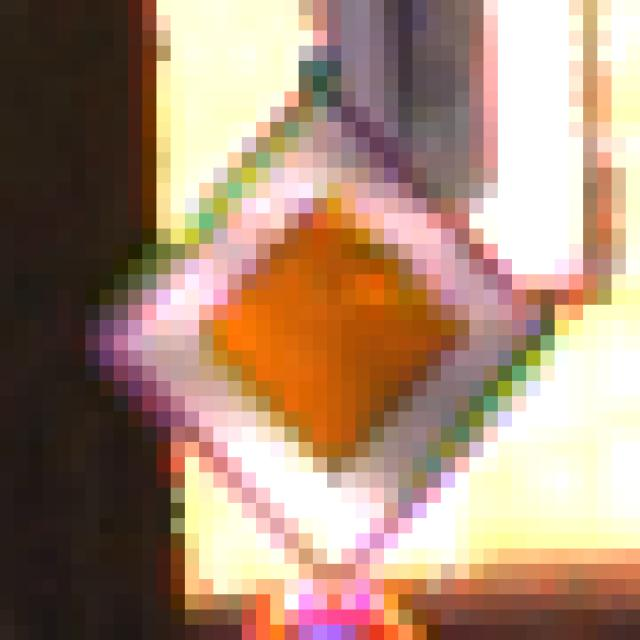Main Road: (72, 77, 570, 565)
